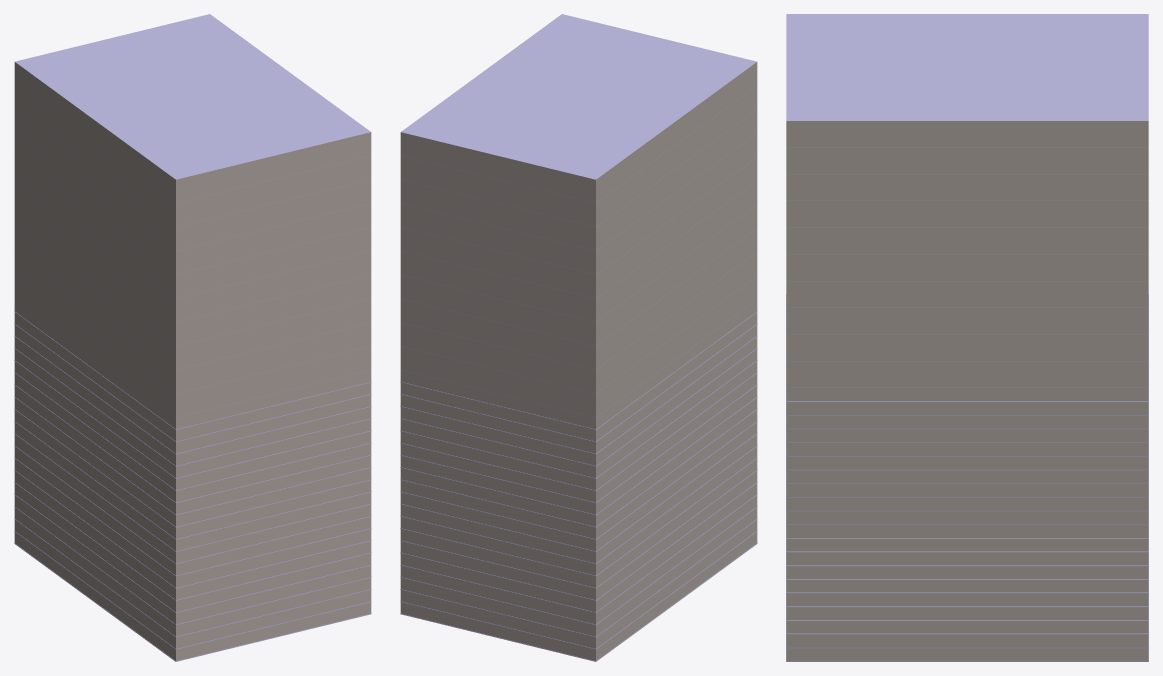
File: Apartment.gltf
The picture shows the model from 3 angles, left to right: view 1: azimuth 30°, elevation 25°; view 2: azimuth 150°, elevation 25°; view 3: azimuth 270°, elevation 25°; orthographic projection. The views are drawn at different scales.
Parts seen in each view (by area): view 1: building_003; view 2: building_003; view 3: building_003.
Part boxes in pixels (box(x1,y1,x2,y2)): building_003: box(14, 14, 371, 661); building_003: box(400, 14, 757, 661); building_003: box(786, 14, 1148, 661).
Bounding box in the file's own units: 70.09 × 165 × 100.
